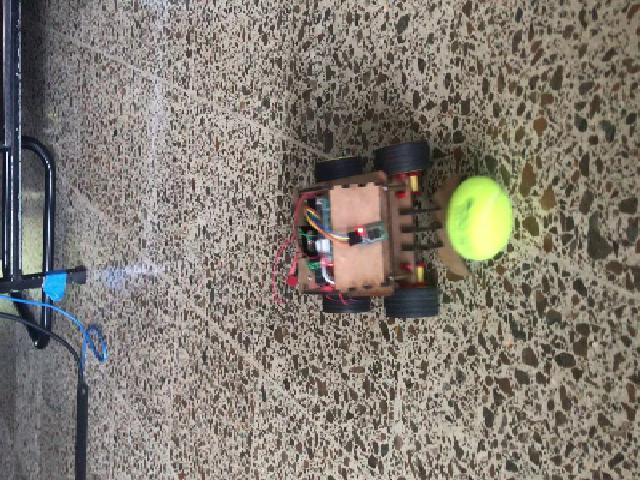Ball: (446, 175, 514, 260)
Robot: (293, 140, 445, 318)
